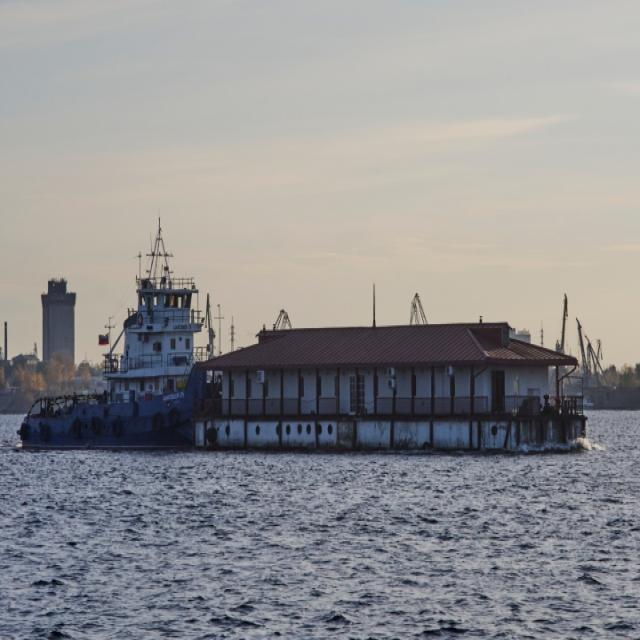tugboat: (15, 274, 242, 462)
